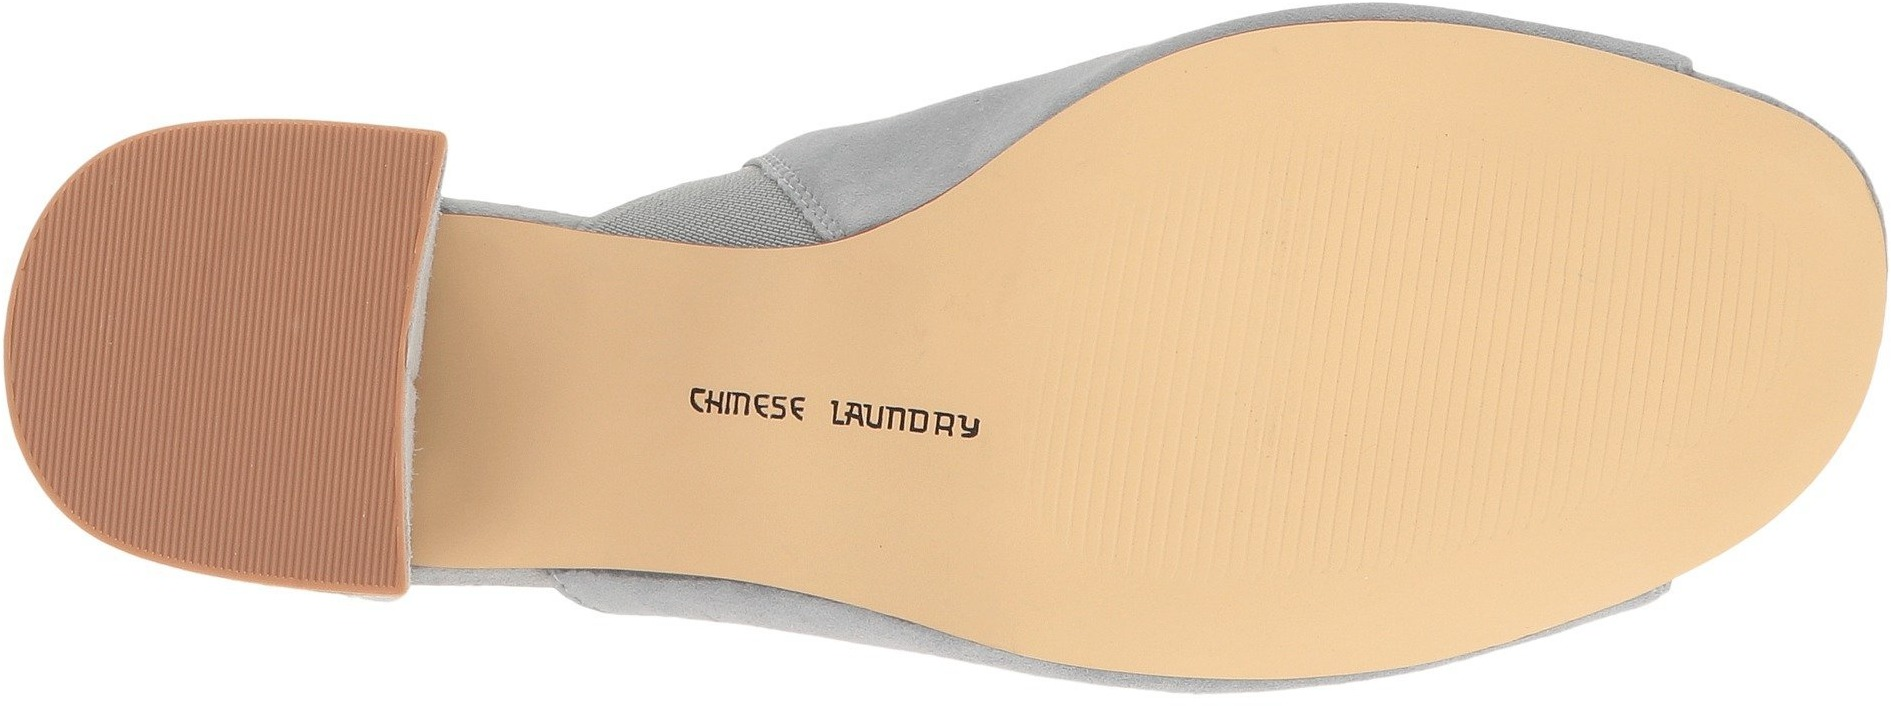exclude: (411, 214, 611, 566)
line: (103, 183, 385, 482), (1184, 229, 1460, 498)
other: (1018, 138, 1801, 583), (13, 126, 447, 596)
text: (654, 317, 850, 504), (856, 373, 994, 480)
